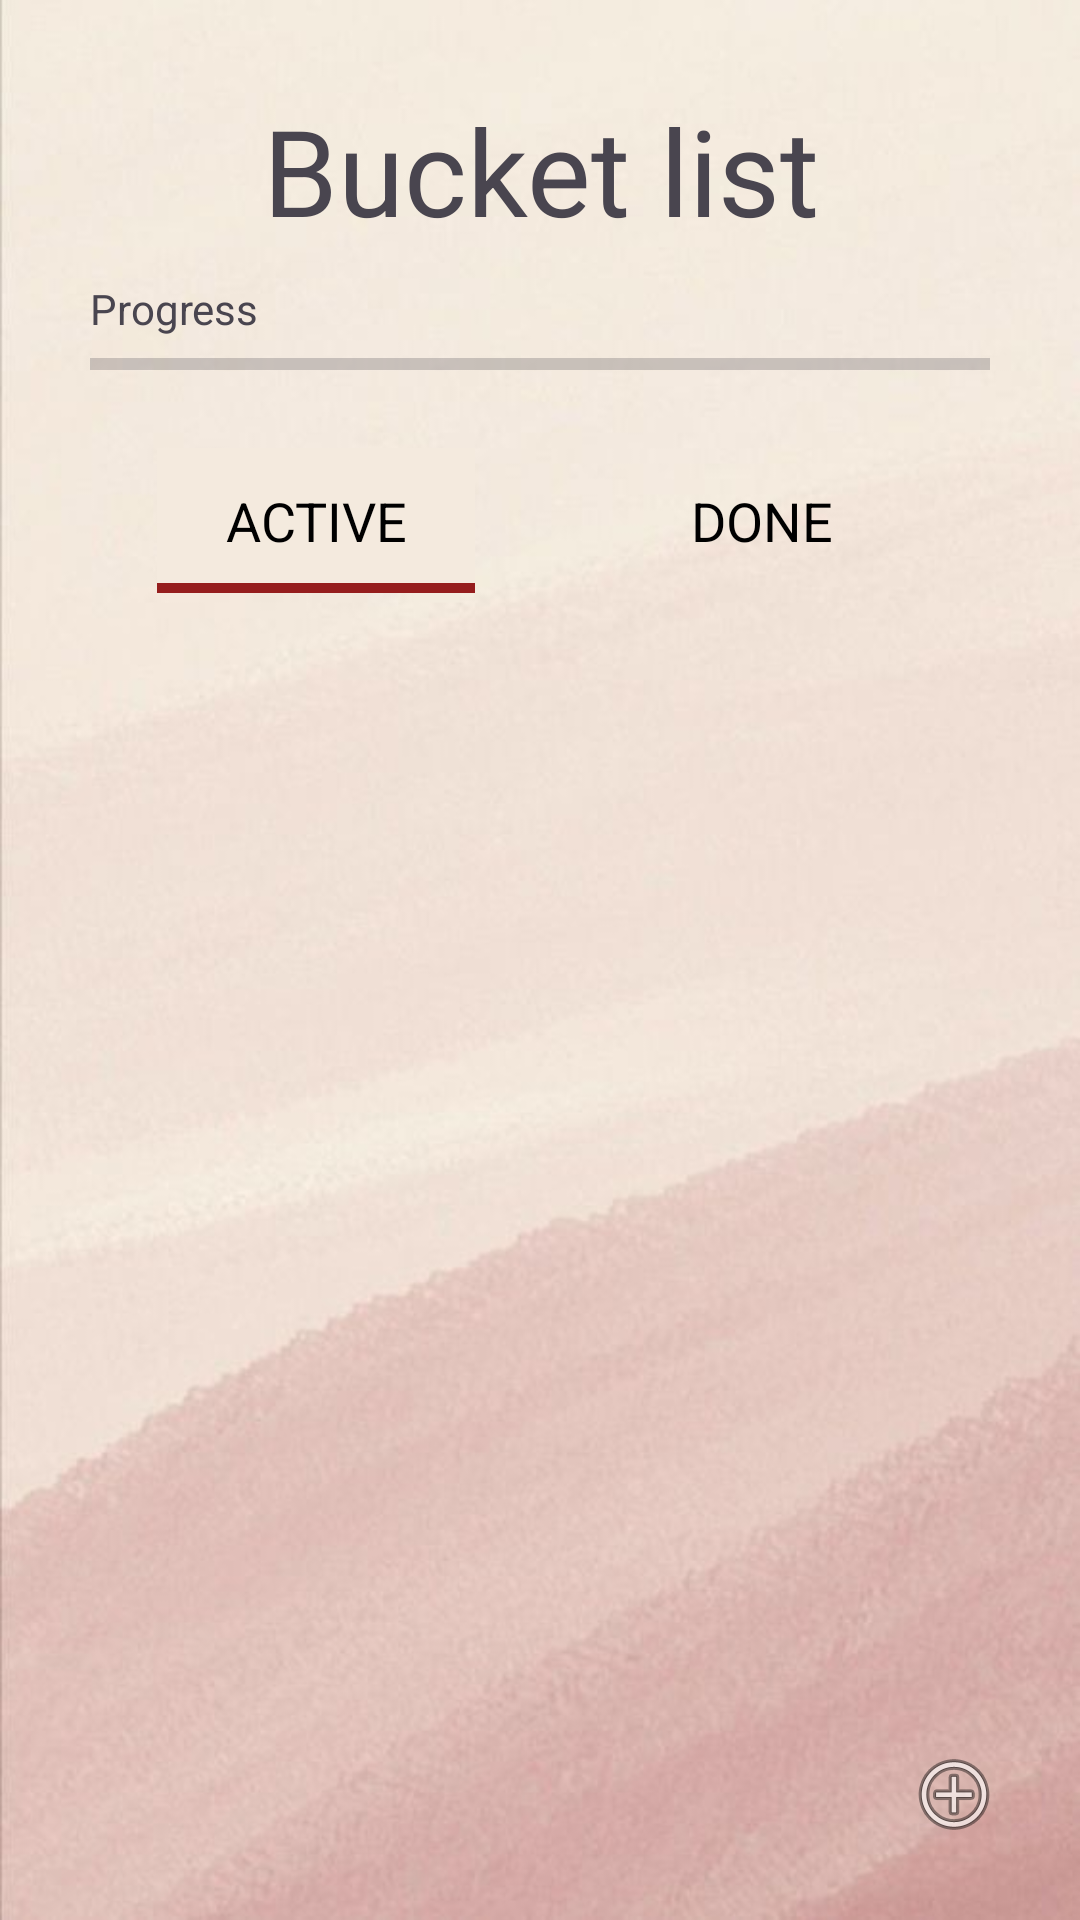

Icons on this 1080 × 1920 Android screen, each with the point to tap as [x,y]:
add: [954,1794]
